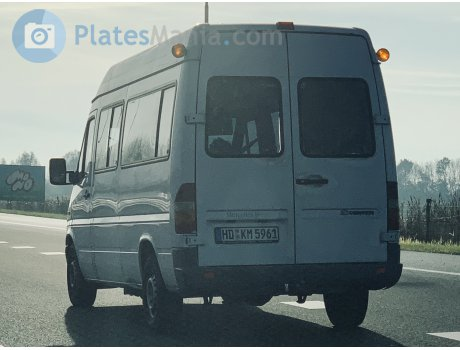License Plates: (222, 226, 275, 240)
